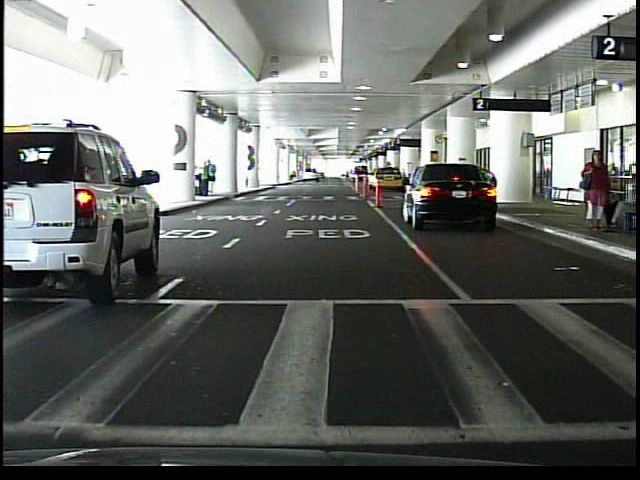person: (578, 151, 612, 232), (587, 154, 600, 206), (198, 161, 210, 199), (208, 160, 218, 197)
